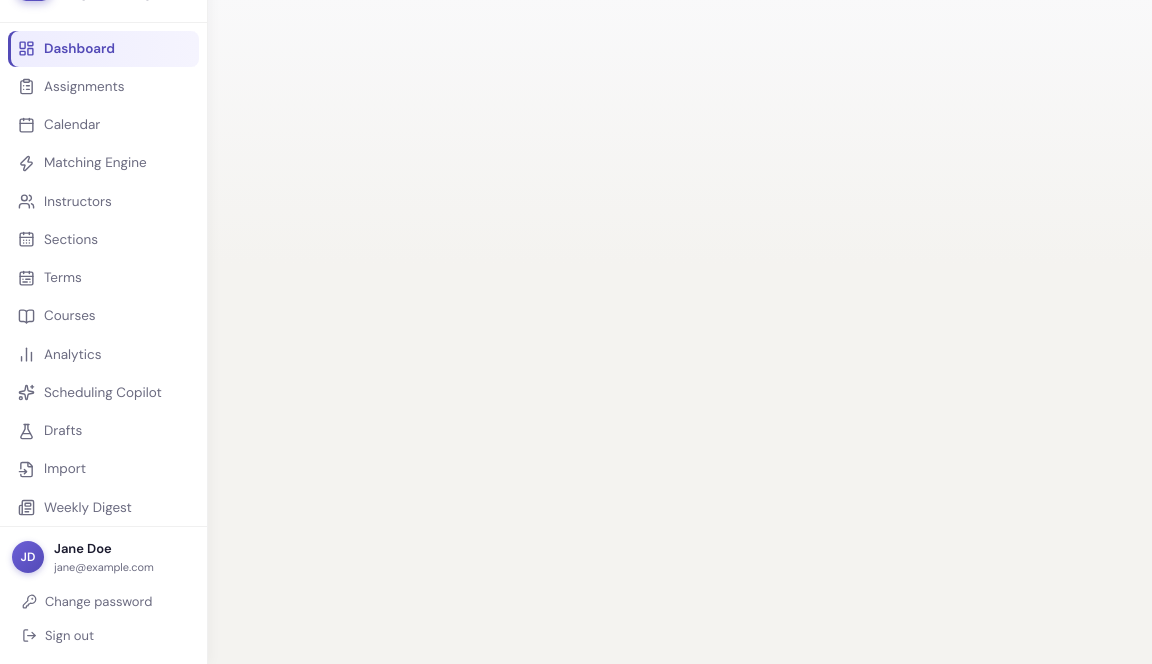
Test: Sidebar › sign-out confirmation › signs out and navigates to /login when confirmed
Step 1. Click the button "Sign out" → (104, 635), box [12,618,195,652]
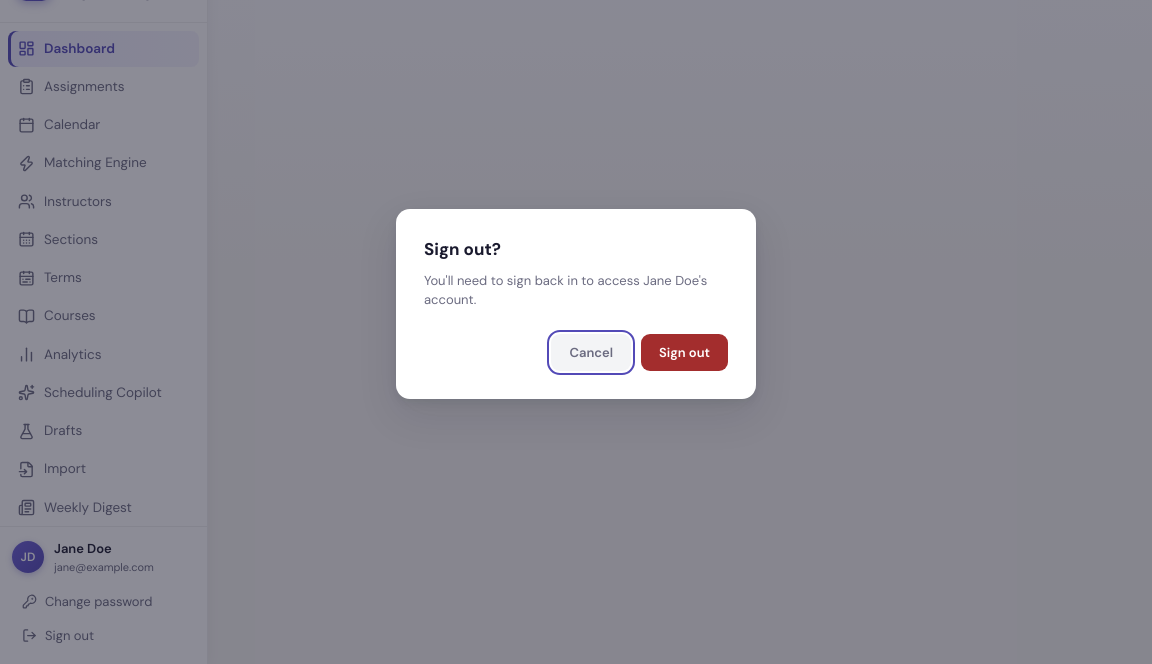
// Two "Sign out" buttons exist once the modal is open: the sidebar trigger and the modal's confirm button.
Step 2. Click the button "Sign out" → (684, 352), box [641,334,728,371]
(page scrolled)
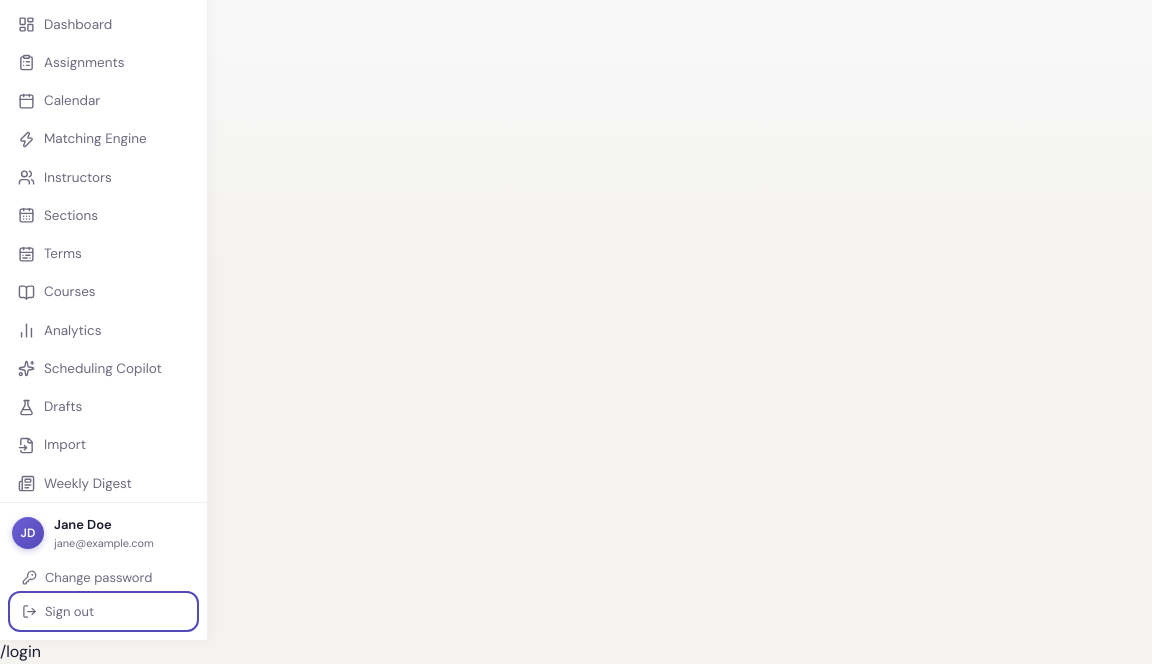
Result: the text with test id "location" reads "/login" at [0,641,41,662]
